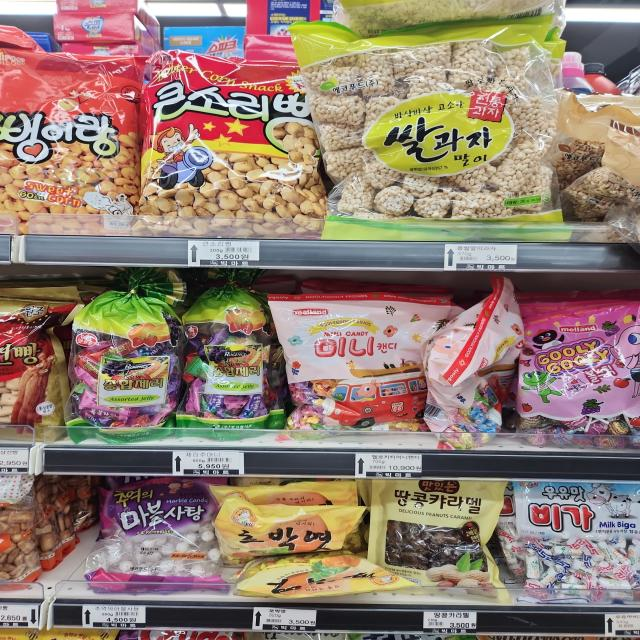product: (285, 22, 568, 245), (139, 51, 337, 240), (274, 296, 435, 438), (363, 476, 513, 600), (512, 306, 640, 451), (505, 484, 640, 610), (90, 477, 232, 593)
